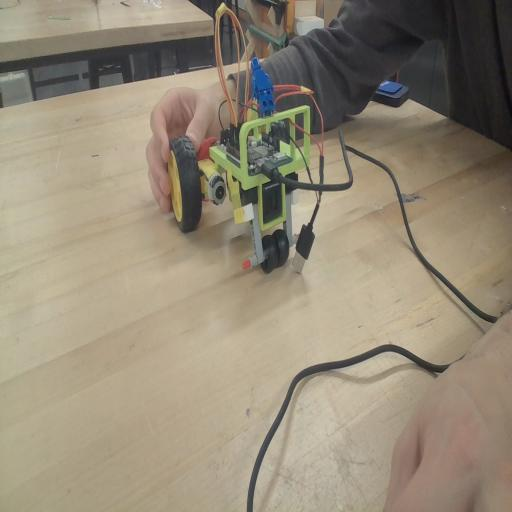blue LEGO minifig: (247, 52, 276, 117)
